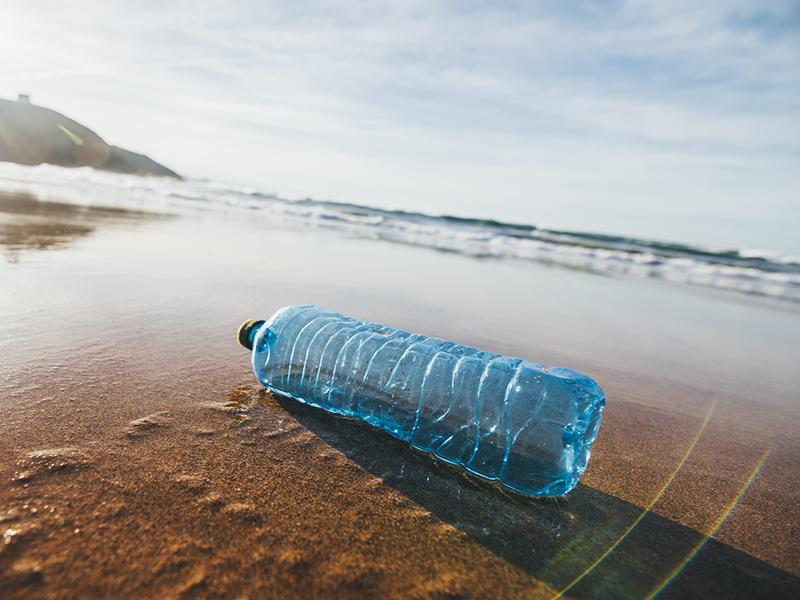bottle: (230, 296, 613, 502)
